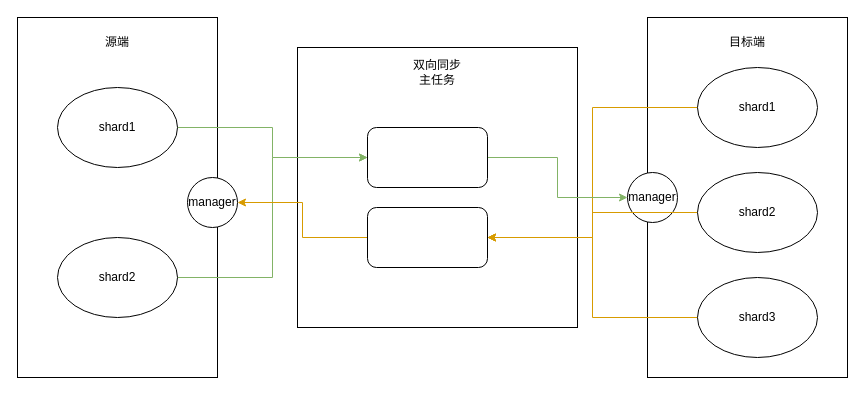
This 865x395 diagram has some shape labels left out. Here are the shapes that lost their labels. From the top down, the centre of each, then its label:
the point at 427,157: 正向任务
the point at 427,237: 反向任务
